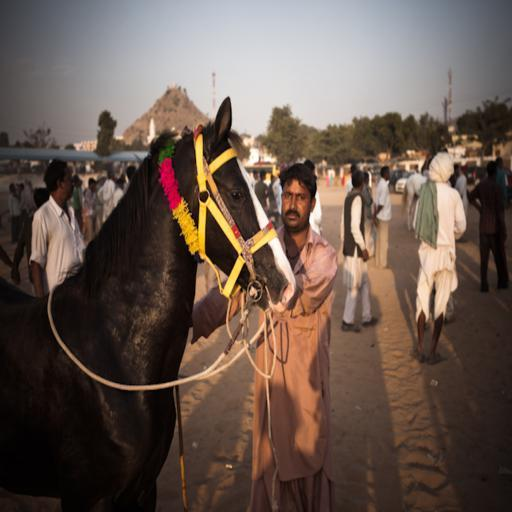horse: (0, 96, 299, 509)
